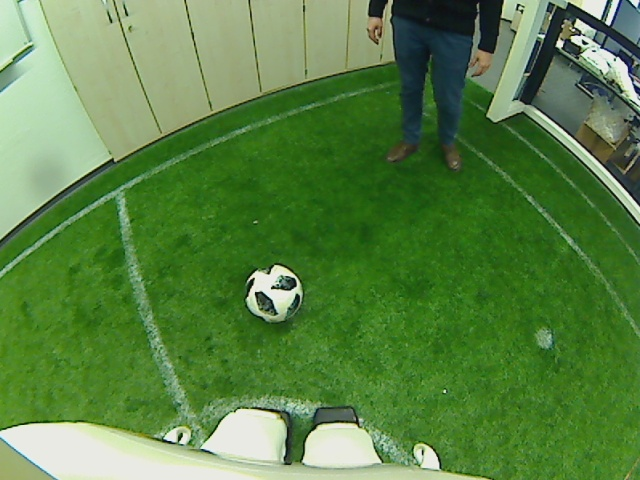ball: (243, 260, 304, 324)
